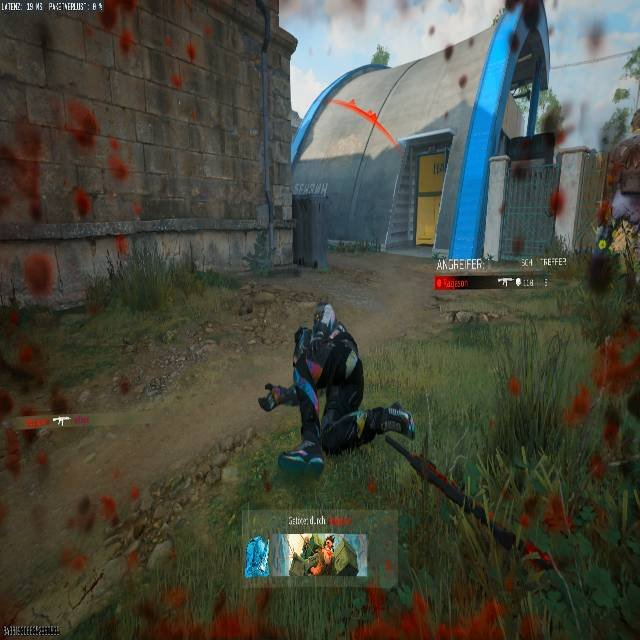head: (312, 302, 336, 335)
player: (257, 301, 439, 508)
